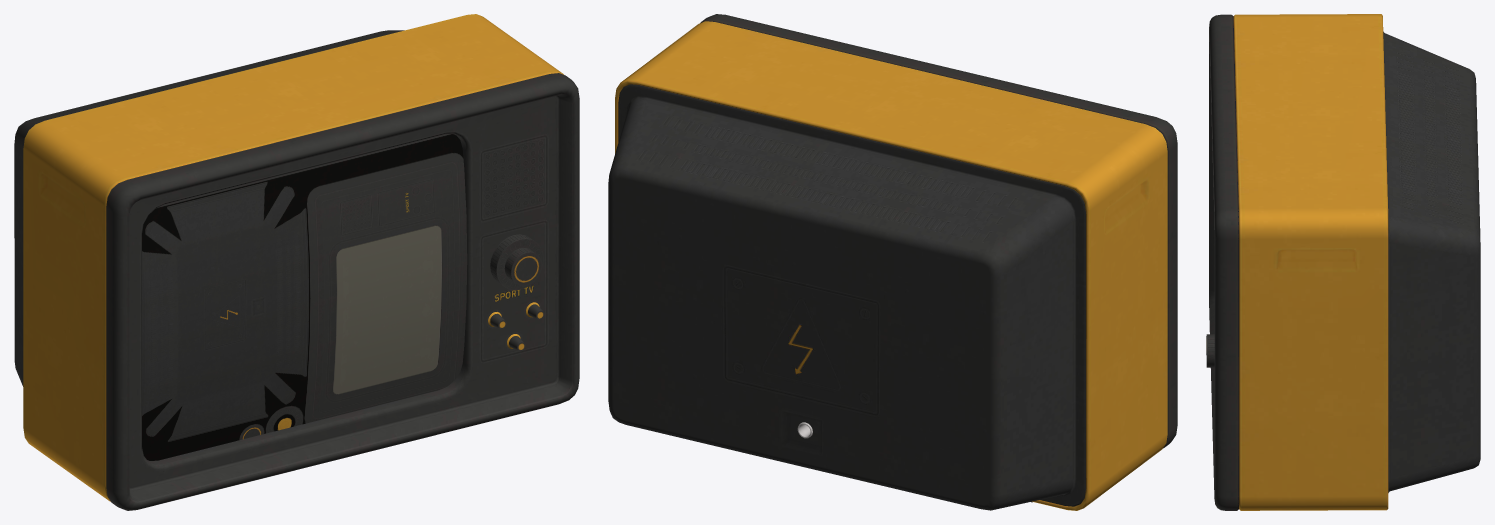
3 views of the same model, side by side, from view 1: azimuth 30°, elevation 25°; view 2: azimuth 150°, elevation 25°; view 3: azimuth 270°, elevation 25° (orthographic). The views are drawn at different scales.
Visible parts, largest first — view 1: TV.001, TV.003; view 2: TV.001; view 3: TV.001.
Boxes of the visible parts, x1,y1,x2,y2 form: TV.001: [14, 14, 579, 510]; TV.003: [142, 134, 467, 460]; TV.001: [608, 14, 1177, 510]; TV.001: [1206, 14, 1480, 510].
Bounding box in the file's own units: 0.5849 × 0.4012 × 0.3206.
Materials: 1 (1 with a texture image).
